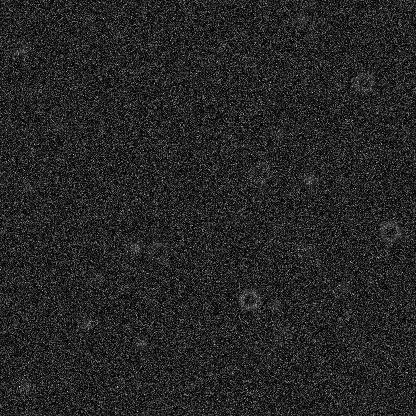Ring: (145, 240, 169, 264), (378, 219, 402, 243), (237, 287, 261, 311), (248, 160, 272, 184), (298, 243, 322, 267), (351, 70, 375, 94)
Spot: (78, 316, 94, 332), (14, 42, 30, 58), (302, 172, 318, 188), (50, 118, 66, 134), (87, 270, 103, 286), (133, 335, 149, 351), (268, 335, 284, 351), (266, 297, 282, 313), (236, 50, 252, 66), (18, 178, 34, 194), (260, 351, 276, 367), (128, 239, 144, 255), (94, 118, 110, 134), (333, 279, 349, 295), (291, 237, 307, 253), (271, 125, 287, 141), (292, 11, 308, 27), (275, 323, 291, 339), (17, 378, 33, 394)
